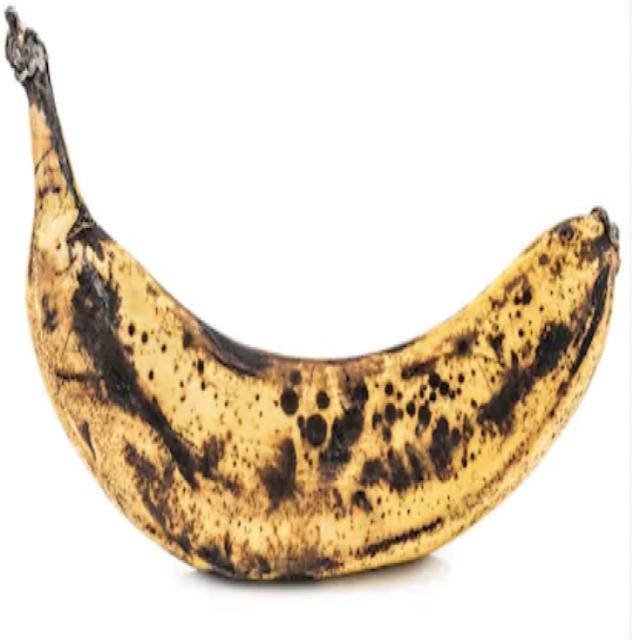rotten-banana: (2, 3, 621, 583)
